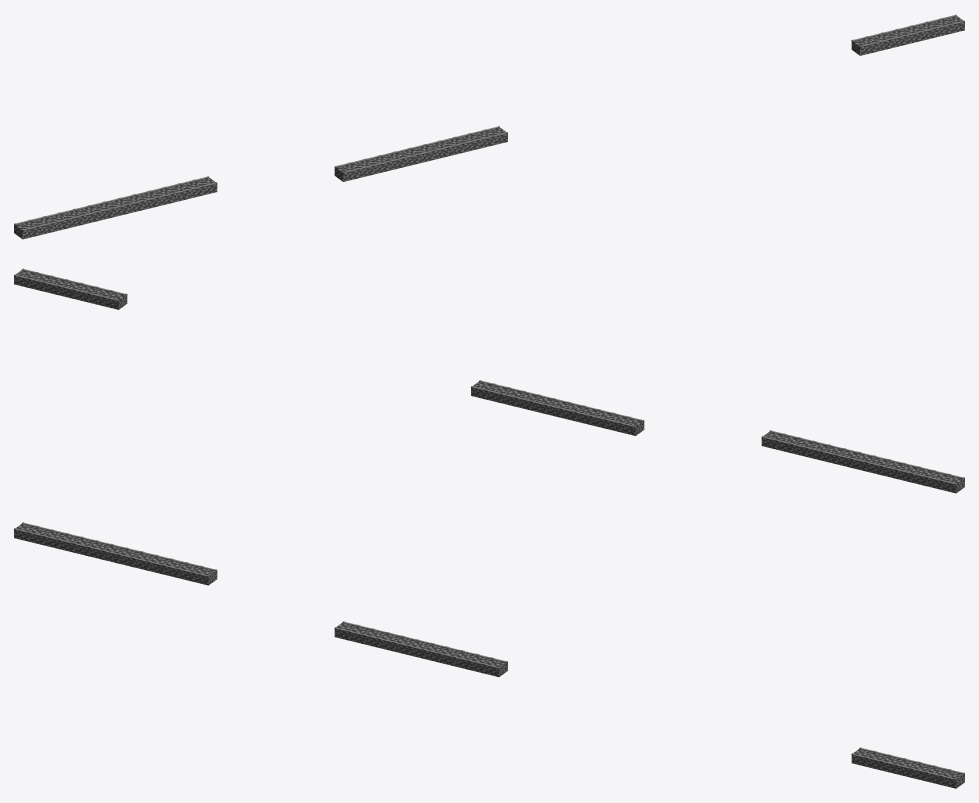
The model's file is Camino.FBX.
3 views of the same model, one above another, from view 1: azimuth 30°, elevation 25°; view 2: azimuth 150°, elevation 25°; view 3: azimuth 330°, elevation 25° (orthographic).
Bounding box in the file's own units: 189 × 5.81 × 3.1.
Materials: 1 (1 with a texture image).
